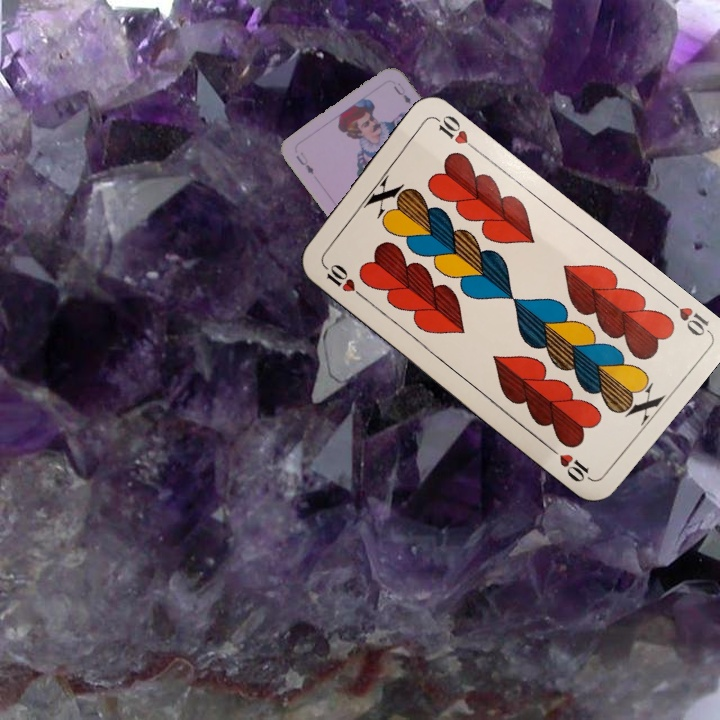EU: (292, 148, 316, 177)
H10: (662, 293, 712, 339), (318, 258, 368, 301)
